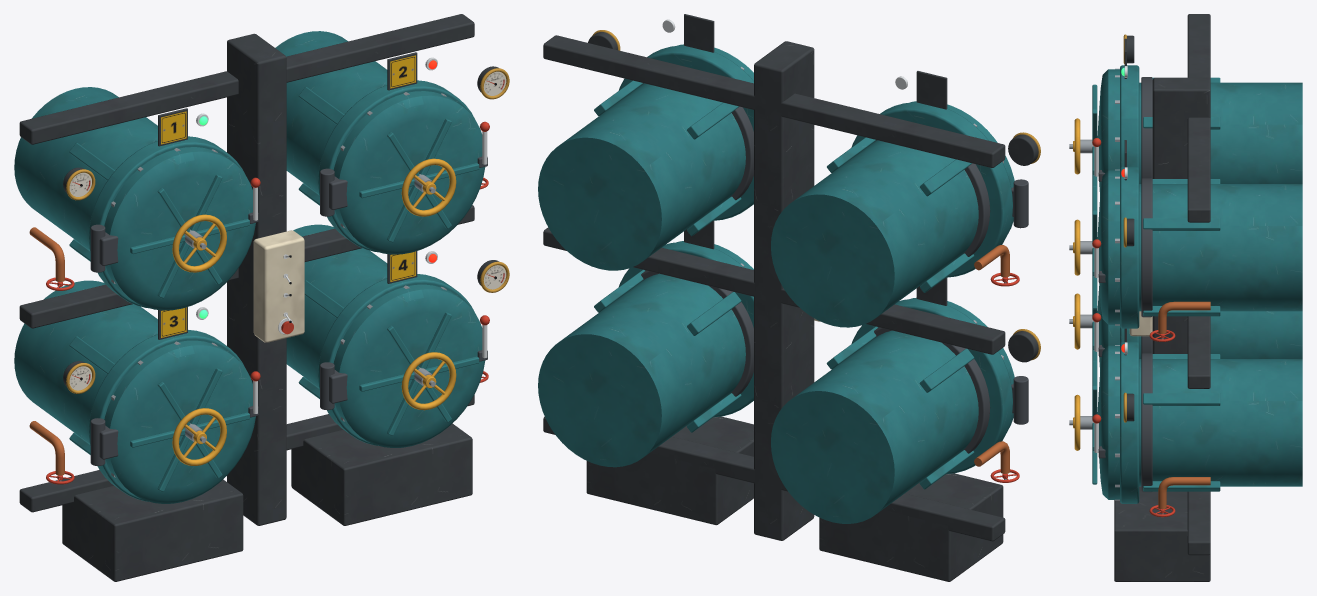
The model's file is TorpedoTubes.glb.
3 renders of one model, left to right at view 1: azimuth 30°, elevation 25°; view 2: azimuth 150°, elevation 25°; view 3: azimuth 270°, elevation 25°, orthographic. The views are drawn at different scales.
Visible parts, largest first — view 1: TorpedoTubes_Body, TorpedoTubes_Door3, TorpedoTubes_Door2, TorpedoTubes_Door4, TorpedoTubes_Door1, TorpedoTubes_Door1Wheel, TorpedoTubes_Door2Wheel, TorpedoTubes_Door4Wheel, TorpedoTubes_Door3Wheel; view 2: TorpedoTubes_Body; view 3: TorpedoTubes_Body, TorpedoTubes_Door2, TorpedoTubes_Door4, TorpedoTubes_Door1, TorpedoTubes_Door3, TorpedoTubes_Door2Wheel, TorpedoTubes_Door4Wheel, TorpedoTubes_Door1Wheel, TorpedoTubes_Door3Wheel.
Boxes of the visible parts, x1,y1,x2,y2 form: TorpedoTubes_Body: [14, 14, 509, 581]; TorpedoTubes_Door3: [99, 340, 255, 503]; TorpedoTubes_Door2: [329, 91, 485, 254]; TorpedoTubes_Door4: [329, 284, 485, 447]; TorpedoTubes_Door1: [99, 147, 255, 310]; TorpedoTubes_Door1Wheel: [172, 214, 226, 272]; TorpedoTubes_Door2Wheel: [401, 158, 456, 216]; TorpedoTubes_Door4Wheel: [401, 352, 456, 410]; TorpedoTubes_Door3Wheel: [172, 408, 226, 465]; TorpedoTubes_Body: [538, 14, 1040, 581]; TorpedoTubes_Body: [1114, 14, 1302, 581]; TorpedoTubes_Door2: [1080, 170, 1119, 324]; TorpedoTubes_Door4: [1080, 345, 1119, 499]; TorpedoTubes_Door1: [1080, 69, 1119, 196]; TorpedoTubes_Door3: [1080, 286, 1119, 371]; TorpedoTubes_Door2Wheel: [1069, 219, 1080, 275]; TorpedoTubes_Door4Wheel: [1069, 394, 1080, 450]; TorpedoTubes_Door1Wheel: [1069, 118, 1080, 174]; TorpedoTubes_Door3Wheel: [1069, 293, 1080, 349].
Bounding box in the file's own units: 2.4 × 2.4 × 1.21.
Materials: 18 (10 with a texture image).
